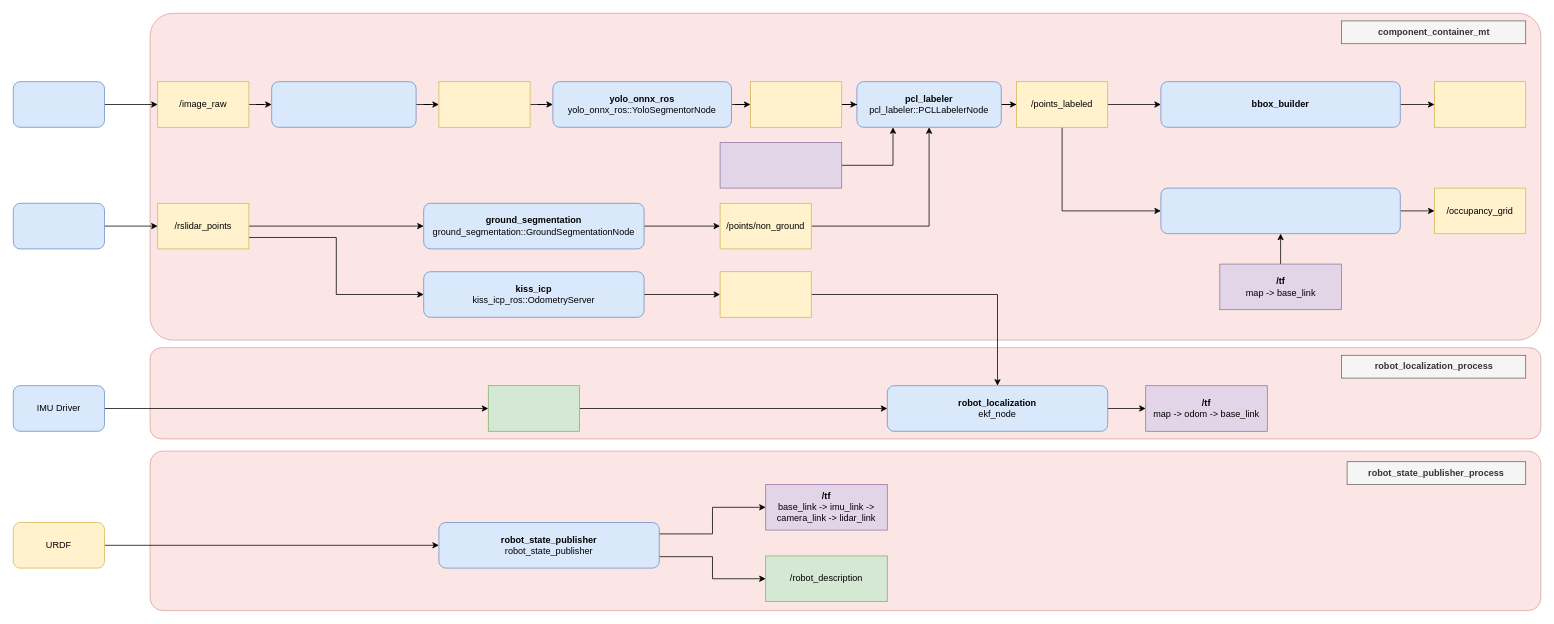
The diagram is 1554 pixels wide and 624 high, and some of its shapes have lost their labels. Here are the shapes that lost their labels. From the top down, the box of each, then its label:
(13, 81, 104, 127): Camera Driver
(271, 81, 416, 127): image_processing image_undistort::ImageUndistort
(438, 81, 530, 127): /image_rect
(750, 81, 842, 127): /segmentation/mask
(1434, 81, 1526, 127): /boxes
(719, 142, 842, 188): /tf lidar_link -> camera_link
(13, 203, 104, 249): Lidar Driver
(1160, 187, 1400, 234): occupancy_grid_builder occupancy_grid_builder::OccupancyGridBuilderNode
(719, 271, 811, 317): /kiss/odometry
(488, 385, 580, 431): /imu
